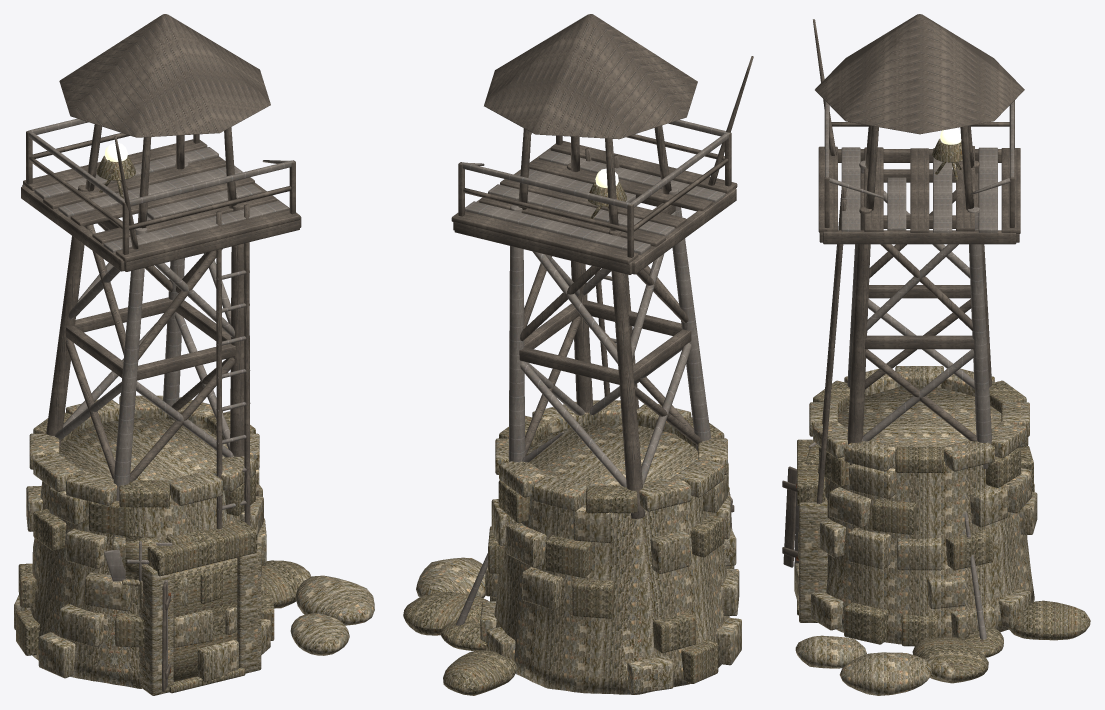
The model's file is watchtower.glb.
3 renders of one model, left to right at view 1: azimuth 30°, elevation 25°; view 2: azimuth 150°, elevation 25°; view 3: azimuth 270°, elevation 25°, orthographic. The views are drawn at different scales.
Parts seen in each view (by area): view 1: watchtower; view 2: watchtower; view 3: watchtower.
Boxes of the visible parts, x1,y1,x2,y2 form: watchtower: [14, 14, 374, 695]; watchtower: [403, 14, 753, 695]; watchtower: [782, 14, 1090, 695].
Bounding box in the file's own units: 6.13 × 11.67 × 5.39.
Materials: 3 (2 with a texture image).
